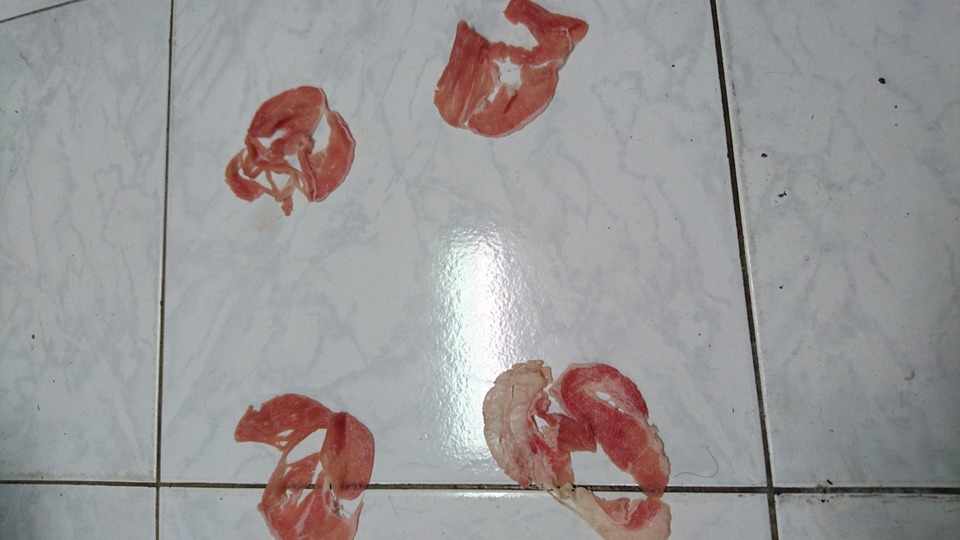restructured meat: (482, 356, 674, 540), (228, 388, 379, 540), (430, 1, 597, 138), (227, 83, 356, 208)
